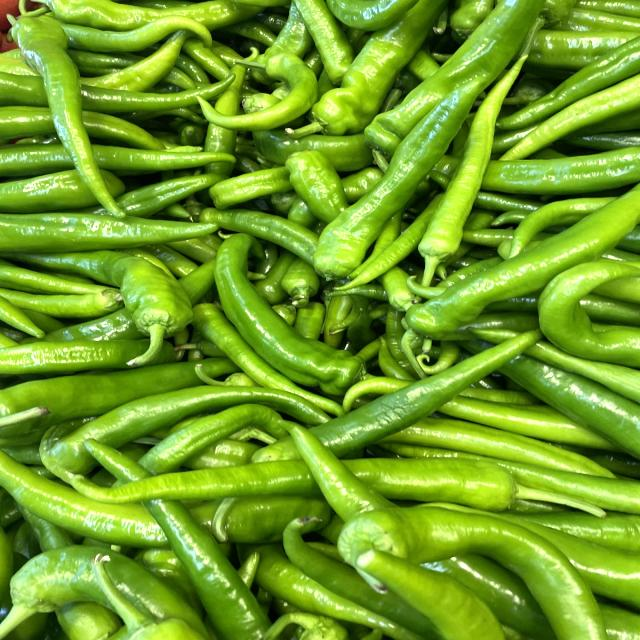green pepper: (412, 52, 543, 292), (0, 11, 136, 215)
